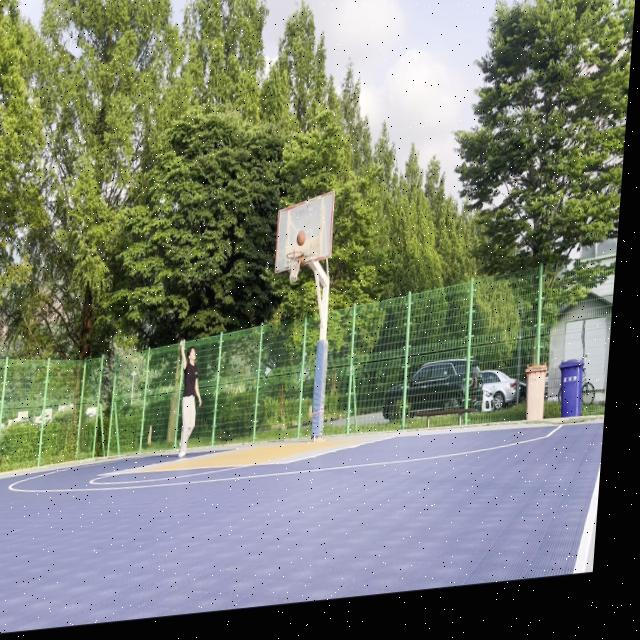basketball: (296, 229, 307, 247)
hoop: (284, 250, 304, 284)
